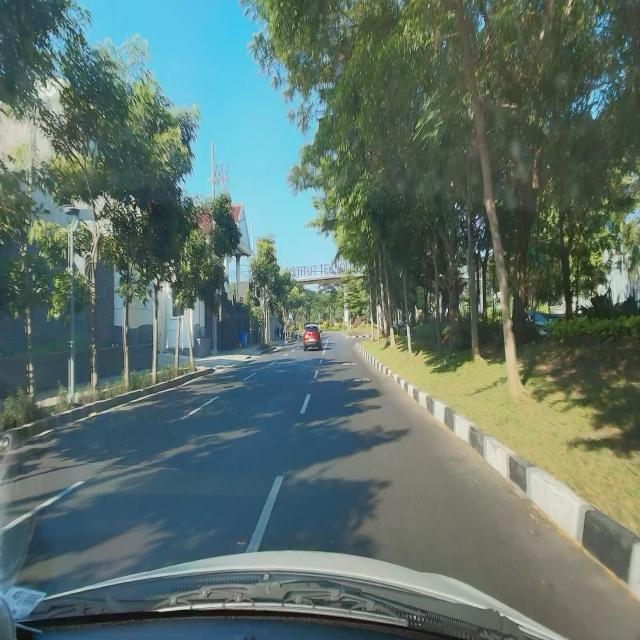car: (303, 324, 322, 352)
